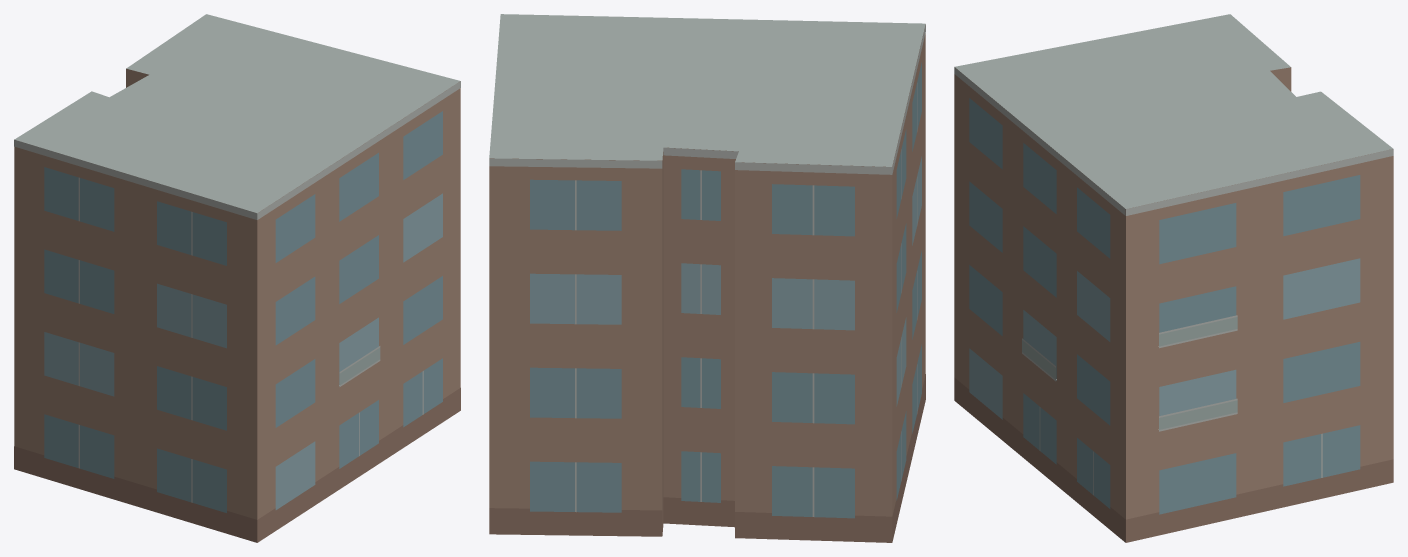
Rendered from survey-upis-32997862.glb.
3 views of the same model, side by side, from view 1: azimuth 30°, elevation 25°; view 2: azimuth 150°, elevation 25°; view 3: azimuth 270°, elevation 25° (orthographic). The views are drawn at different scales.
Visible parts, largest first — view 1: survey-upis-32997862.tmp; view 2: survey-upis-32997862.tmp; view 3: survey-upis-32997862.tmp.
Boxes of the visible parts, bbox=[...] form: survey-upis-32997862.tmp: bbox=[14, 14, 460, 542]; survey-upis-32997862.tmp: bbox=[489, 14, 925, 542]; survey-upis-32997862.tmp: bbox=[954, 14, 1393, 542].
Bounding box in the file's own units: 14.56 × 11.6 × 13.84.
